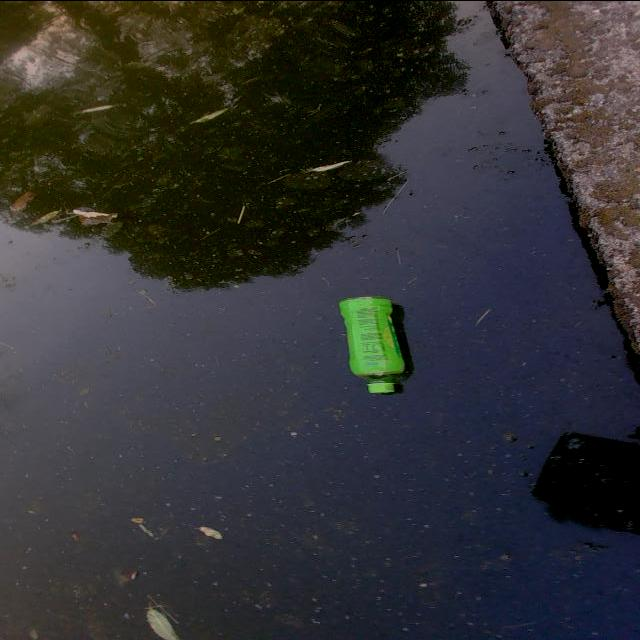bottle: (336, 292, 414, 397)
